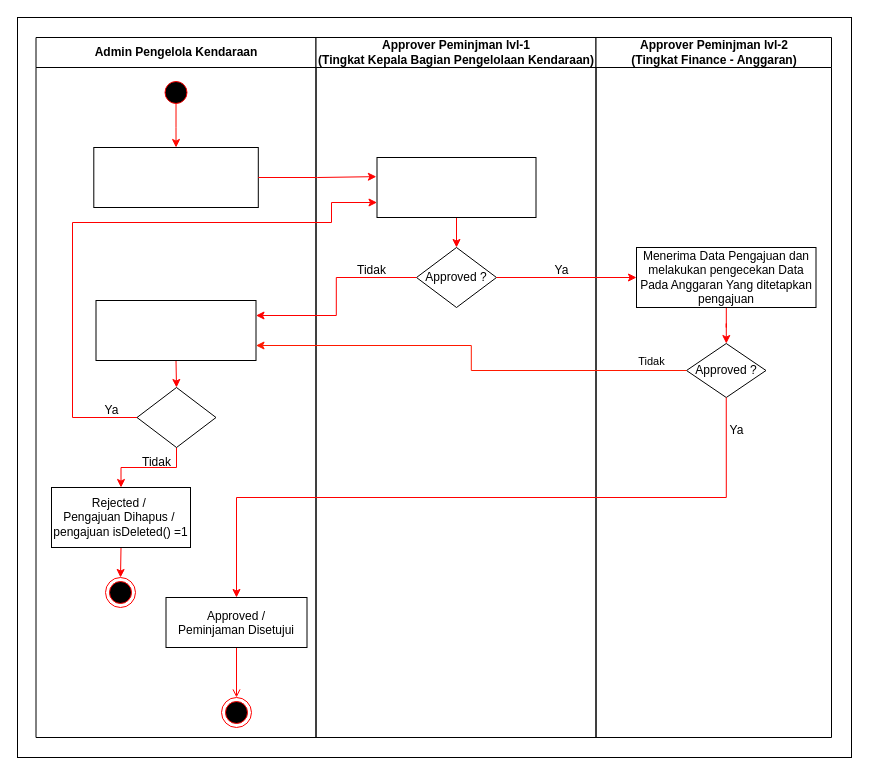
This 869x775 diagram has some shape labels left out. Here are the shapes that lost their labels. From the top down, the centre of each, then its label:
At (175,177): "Memberikan / Menginputkan Data Pengajuan Peminjaman Kendaraan".
At (456,187): "Menerima Data Pengajuan dan melakukan pengecekan Data Pengajuan".
At (175,330): "Admin Mengoptimalka / meninjau ulang Data Pengajuan".
At (176,417): "Optimal ?".
